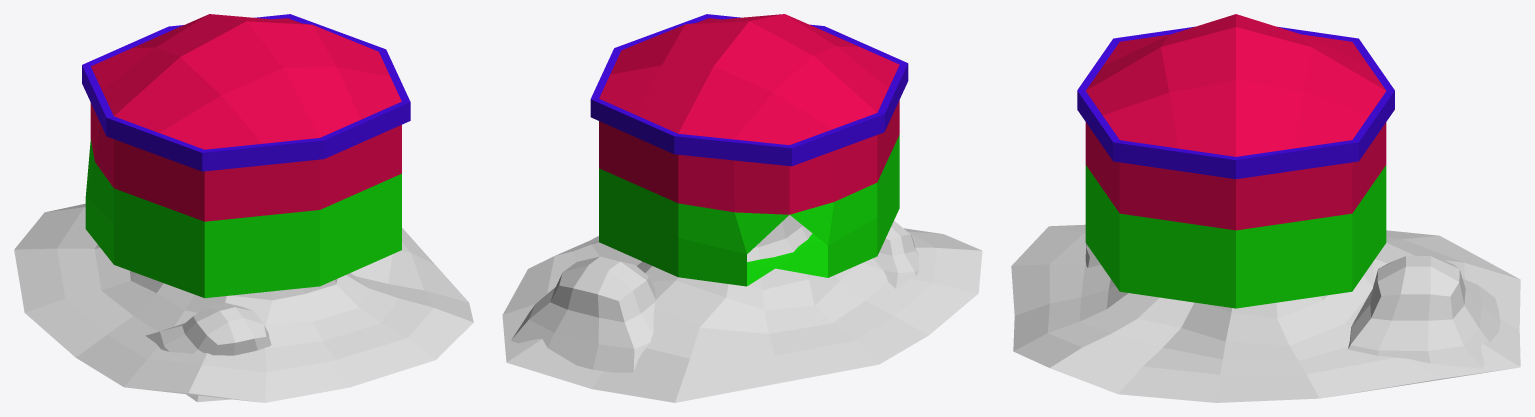
File: szklarnia.fbx
3 renders of one model, left to right at view 1: azimuth 30°, elevation 25°; view 2: azimuth 150°, elevation 25°; view 3: azimuth 270°, elevation 25°, orthographic. The views are drawn at different scales.
Parts seen in each view (by area): view 1: Cube, Cube.001; view 2: Cube, Cube.001; view 3: Cube, Cube.001.
Boxes of the visible parts, x1=… form: Cube: x1=82, y1=14, x2=410, y2=298; Cube.001: x1=14, y1=203, x2=473, y2=402; Cube: x1=590, y1=14, x2=908, y2=286; Cube.001: x1=502, y1=215, x2=982, y2=402; Cube: x1=1077, y1=14, x2=1394, y2=308; Cube.001: x1=1011, y1=224, x2=1520, y2=402.
Bounding box in the file's own units: 819 × 633 × 962.
